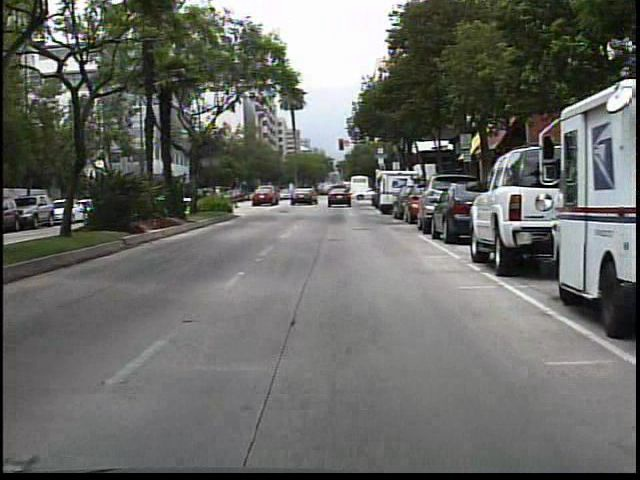person: (329, 181, 346, 204), (308, 184, 322, 205)
